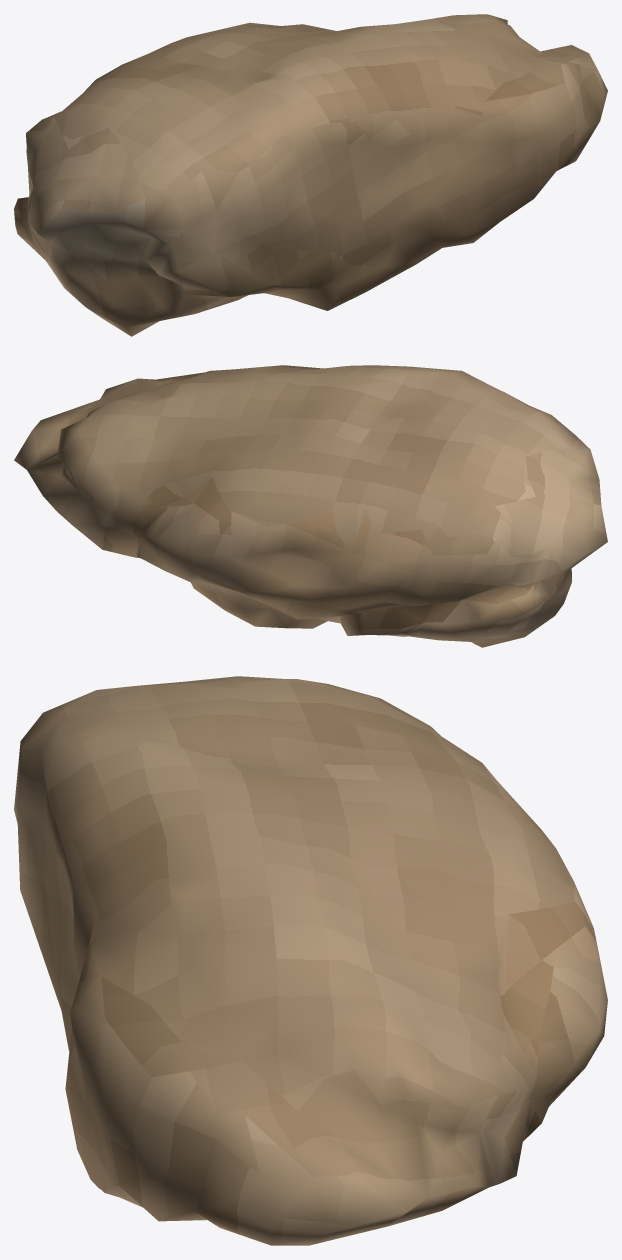
The model's file is rock_flat_far.glb.
The picture shows the model from 3 angles, top to bottom: view 1: azimuth 30°, elevation 25°; view 2: azimuth 150°, elevation 25°; view 3: azimuth 270°, elevation 25°; orthographic projection. The views are drawn at different scales.
Parts seen in each view (by area): view 1: rock_flat_far; view 2: rock_flat_far; view 3: rock_flat_far.
Part boxes in pixels (<box>): rock_flat_far: <box>14,14,607,336</box>; rock_flat_far: <box>14,365,607,647</box>; rock_flat_far: <box>14,676,607,1245</box>.
Bounding box in the file's own units: 1.36 × 0.5255 × 0.7395.
Materials: 1 (1 with a texture image).
